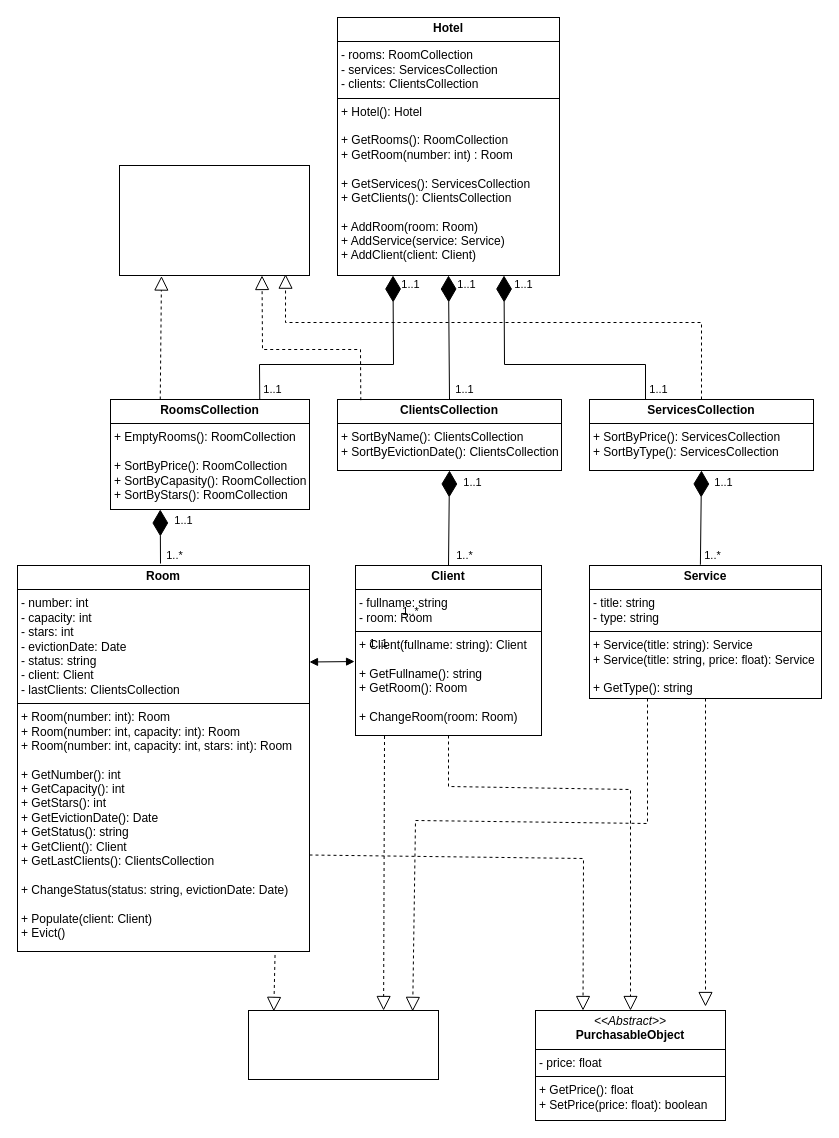
The diagram is 839 pixels wide and 1138 high, and some of its shapes have lost their labels. Each missing label, with the box of its shape:
<<Abstract>> BaseCollection - elements: T[] + Get(): T[] + Show(): (118, 164, 310, 276)
<<Interface>> IInspectable + Inspect(): (248, 1010, 438, 1080)
